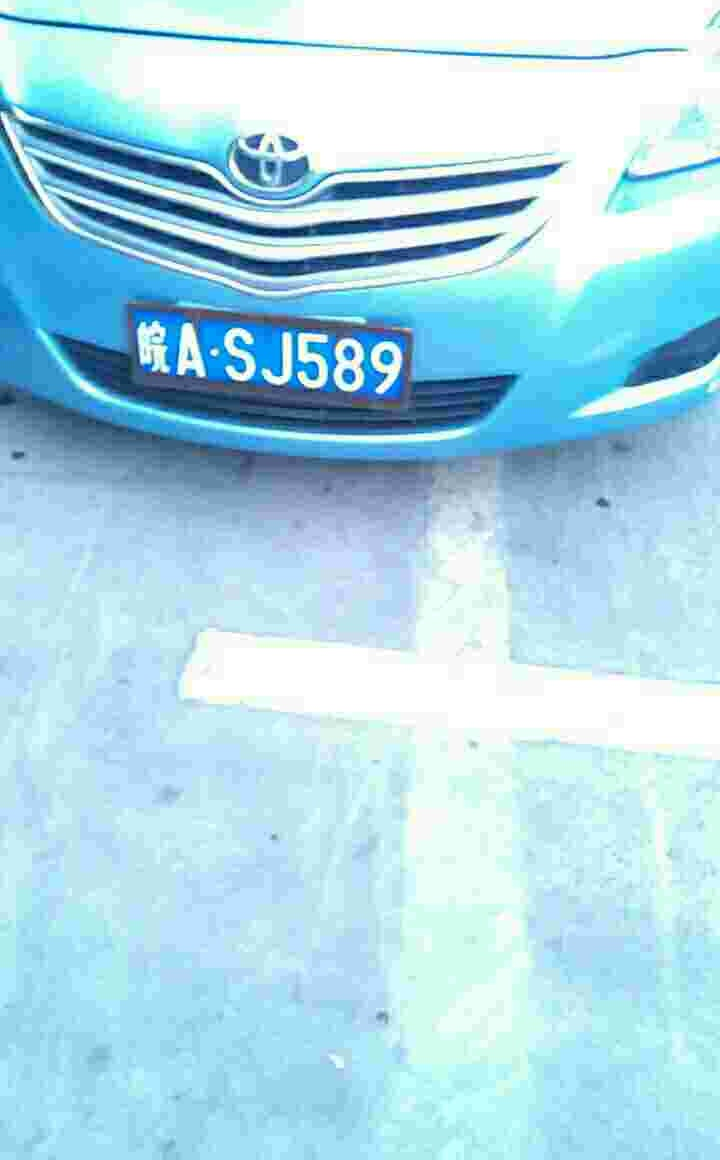license_plate: (124, 304, 419, 402)
